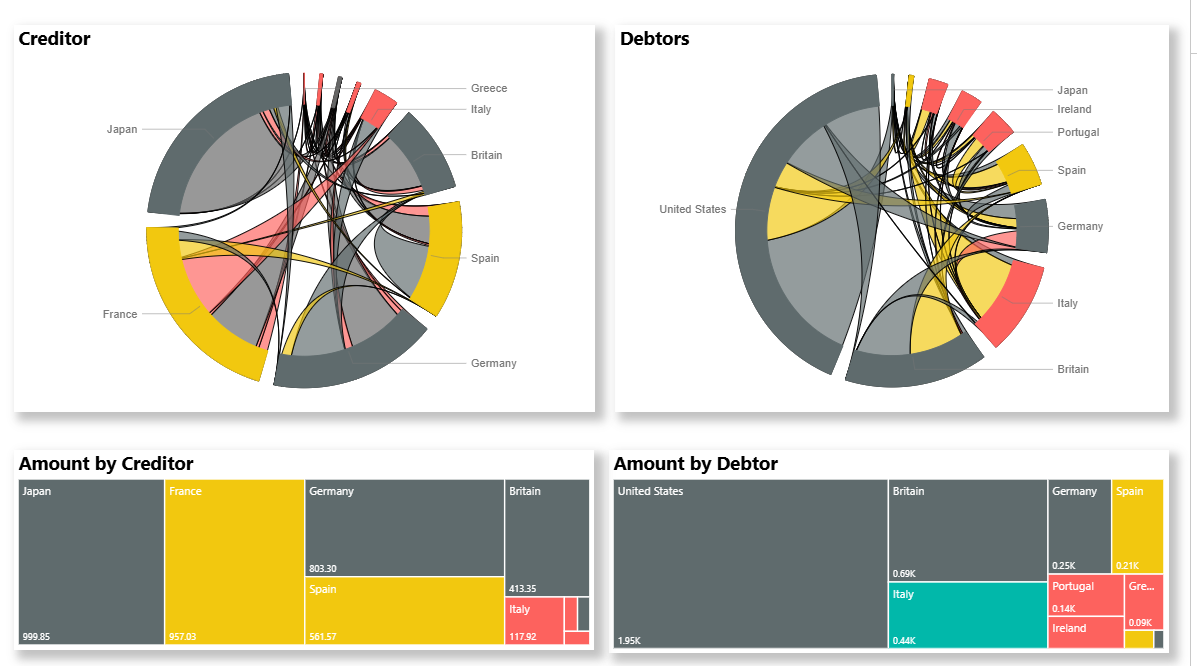

Layout of this report page (visuals, bound fields, positions):
{"tool":"powerbi","page":{"name":"Page 1","canvas":[1280,720],"ordinal":0},"visuals":[{"type":"ChordChart1444757060245","title":"Creditor ","fields":{"Category":["S06-LeveragingCustomVisuals EuroDebtCrisis.Creditor"],"Series":["S06-LeveragingCustomVisuals EuroDebtCrisis.Debtor"],"Y":["Sum(S06-LeveragingCustomVisuals EuroDebtCrisis.Amount)"]},"box":[15,27.5,625.4,415.7],"z":0},{"type":"ChordChart1444757060245","title":"Debtors","fields":{"Y":["Sum(S06-LeveragingCustomVisuals EuroDebtCrisis.Amount)"],"Category":["S06-LeveragingCustomVisuals EuroDebtCrisis.Debtor"],"Series":["S06-LeveragingCustomVisuals EuroDebtCrisis.Creditor"]},"box":[661.2,27.5,596.2,416.2],"z":1000},{"type":"treemap","fields":{"Group":["S06-LeveragingCustomVisuals EuroDebtCrisis.Creditor"],"Values":["Sum(S06-LeveragingCustomVisuals EuroDebtCrisis.Amount)"]},"box":[15,483.8,625,215],"z":2000},{"type":"treemap","fields":{"Group":["S06-LeveragingCustomVisuals EuroDebtCrisis.Debtor"],"Values":["Sum(S06-LeveragingCustomVisuals EuroDebtCrisis.Amount)"]},"box":[655,483.8,602.5,218.8],"z":3000}]}

Visuals, with their boxes in screenshot pixels (x1, y1, x2, y2), scaled from the page's 1280x720 canvas onto the 1197x666 screenshot:
"Creditor " ChordChart1444757060245: 14:25:599:410
"Debtors" ChordChart1444757060245: 618:25:1176:410
treemap - S06-LeveragingCustomVisuals EuroDebtCrisis.Creditor x Sum(S06-LeveragingCustomVisuals EuroDebtCrisis.Amount): 14:448:598:646
treemap - S06-LeveragingCustomVisuals EuroDebtCrisis.Debtor x Sum(S06-LeveragingCustomVisuals EuroDebtCrisis.Amount): 613:448:1176:650
